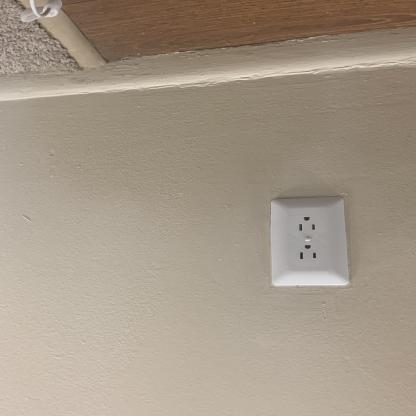OUTLET: (270, 195, 349, 290)
